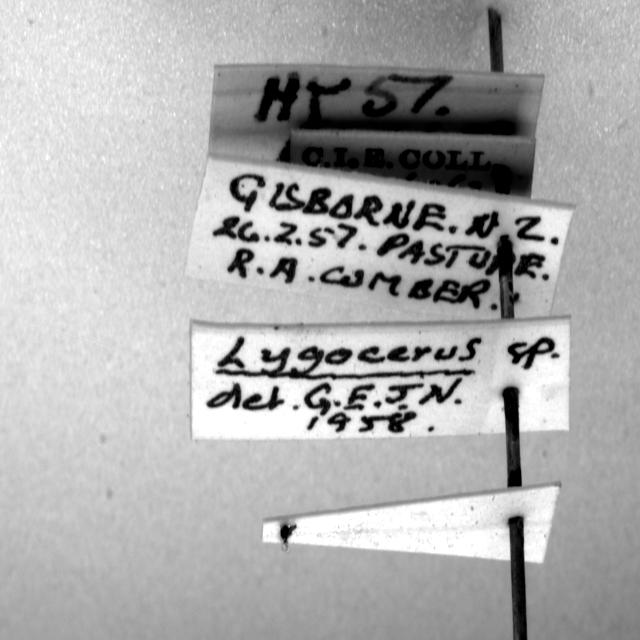hand_label: (185, 158, 574, 319), (190, 317, 570, 439)
